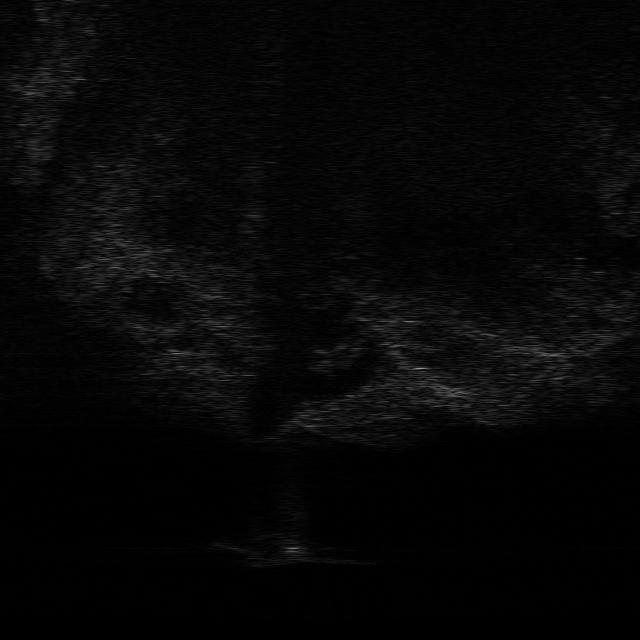plane: (214, 535, 370, 570)
